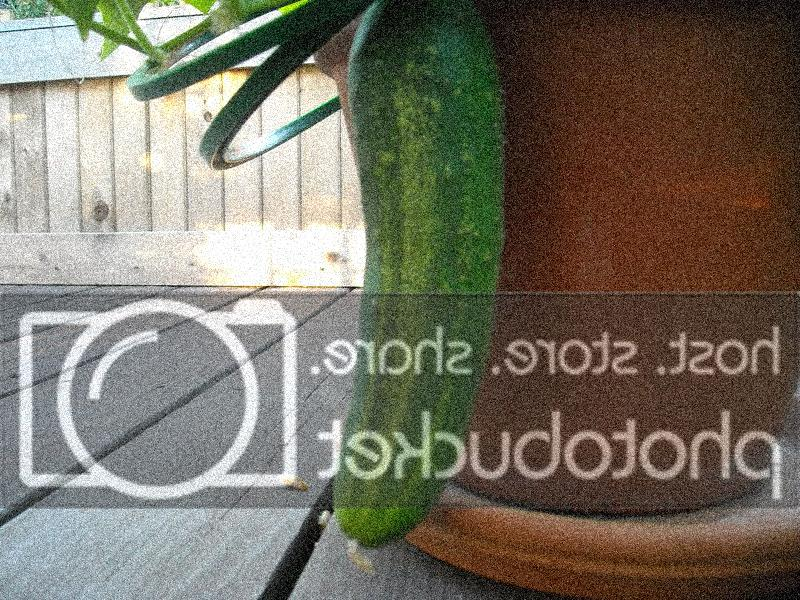Cucumber: (333, 5, 504, 572)
